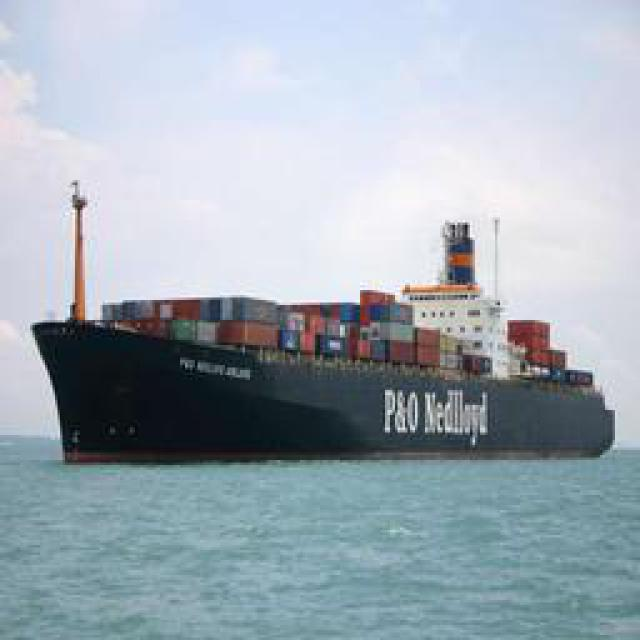Ship: (27, 220, 637, 460)
